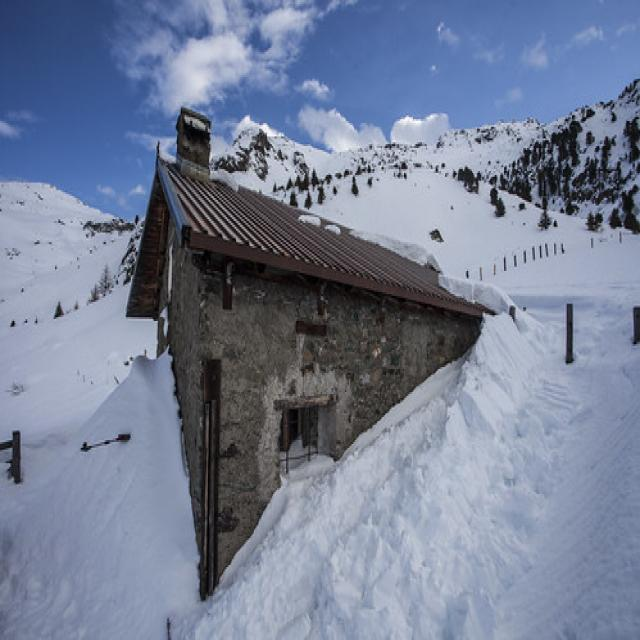Normal_building: (126, 106, 485, 600)
